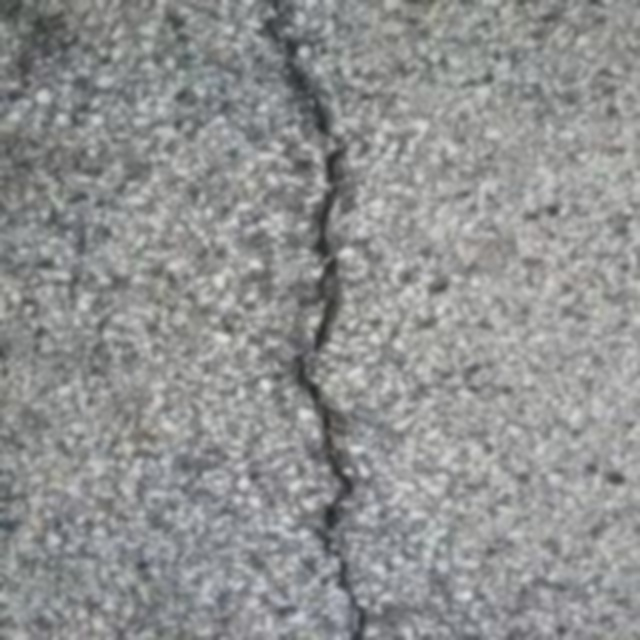SurfaceCrack: (210, 0, 396, 640)
